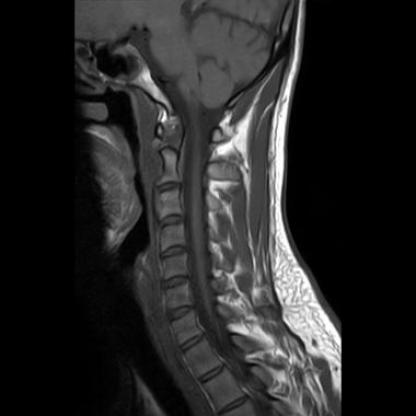Degenerative Disc Diseaserotation: (165, 305, 197, 320), (158, 213, 185, 229), (158, 245, 190, 258)
